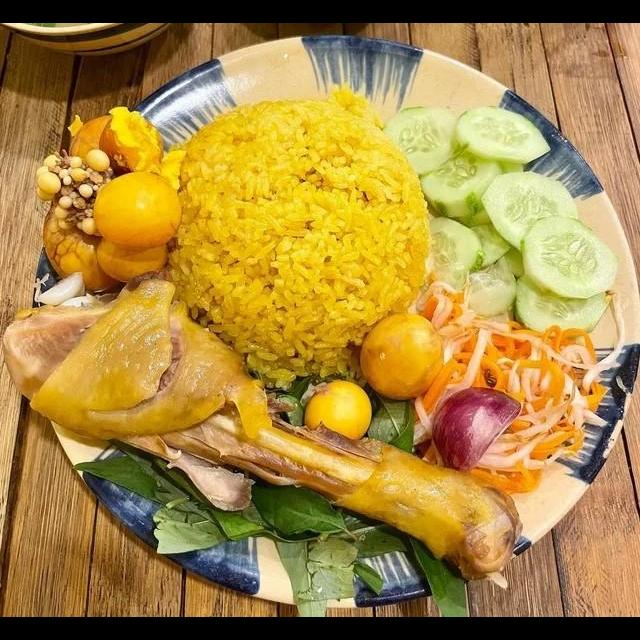com: (150, 77, 439, 387)
rau ram: (67, 431, 365, 560), (272, 500, 475, 617), (265, 370, 419, 460)
thit ga: (1, 267, 525, 586)
trung: (28, 101, 190, 299), (356, 306, 447, 405), (301, 376, 375, 448)
